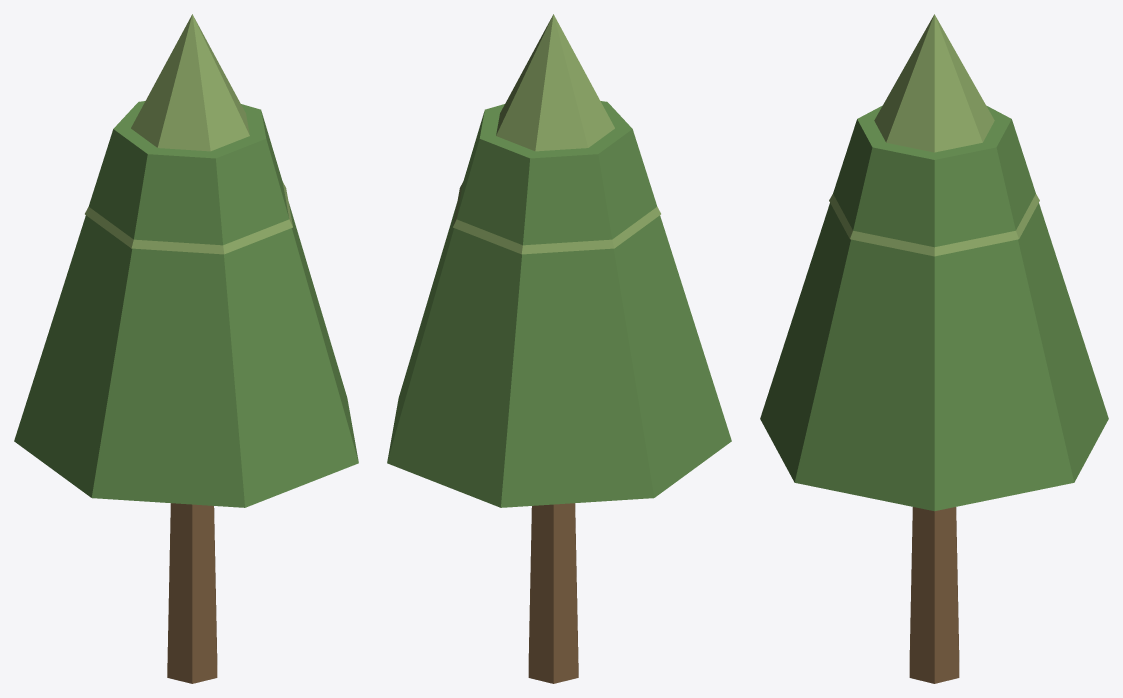
The model's file is tree_deciduous_03.glb.
The picture shows the model from 3 angles, left to right: view 1: azimuth 30°, elevation 25°; view 2: azimuth 150°, elevation 25°; view 3: azimuth 270°, elevation 25°; orthographic projection.
Bounding box in the file's own units: 2.36 × 5.03 × 2.42.
